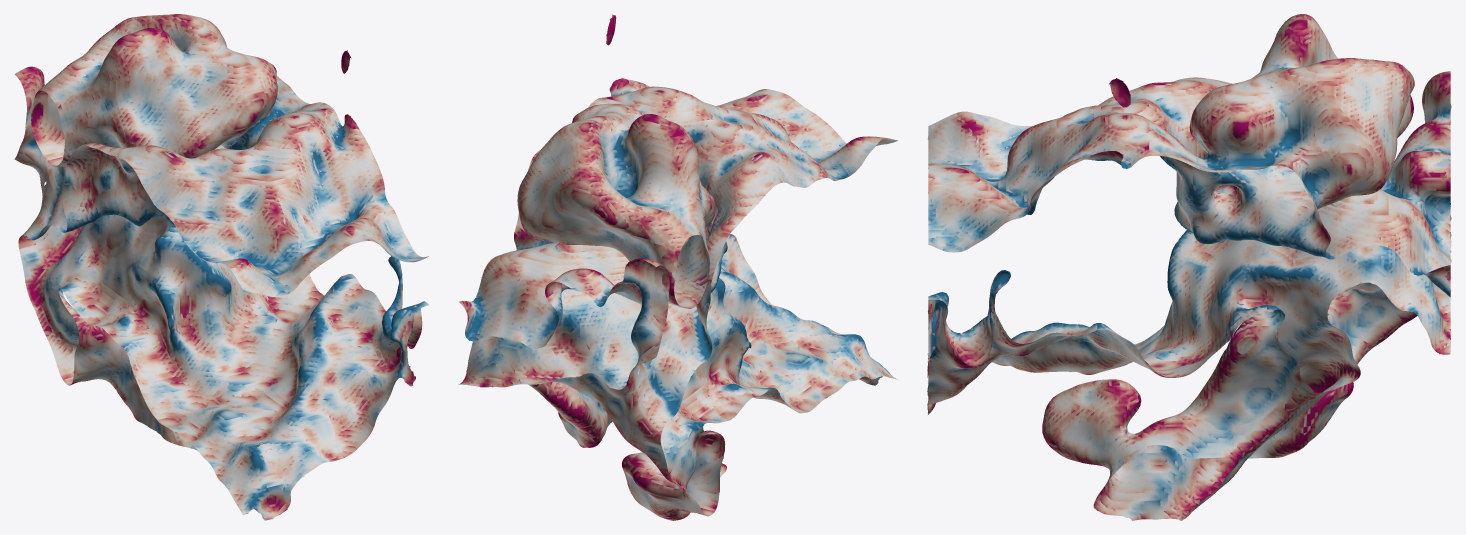
File: crop1026_curvature.glb
3 renders of one model, left to right at view 1: azimuth 30°, elevation 25°; view 2: azimuth 150°, elevation 25°; view 3: azimuth 270°, elevation 25°, orthographic. The views are drawn at different scales.
Visible parts, largest first — view 1: geometry_0; view 2: geometry_0; view 3: geometry_0.
Part boxes in pixels (left/top/right/bottom): geometry_0: left=14, top=14, right=428, bottom=520; geometry_0: left=458, top=14, right=897, bottom=520; geometry_0: left=927, top=14, right=1451, bottom=520.
Bounding box in the file's own units: 1080 × 2132 × 2280.
